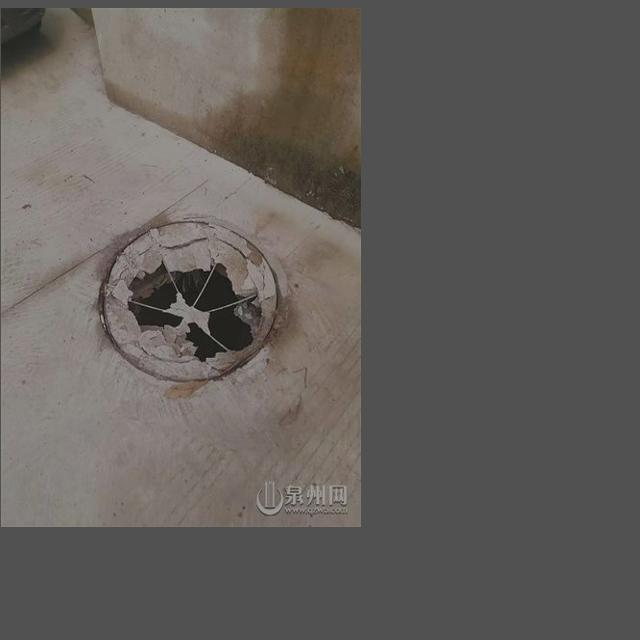broke: (72, 210, 315, 388)
